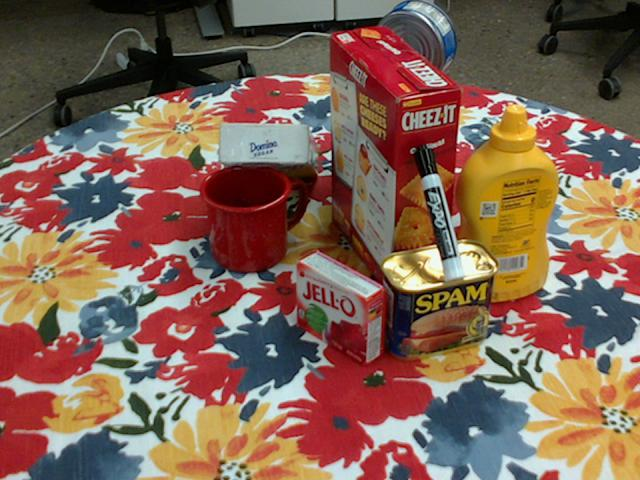cracker_box: (328, 28, 459, 298)
gelatin_box: (296, 249, 387, 364)
large_marker: (412, 144, 467, 280)
master_chef_can: (349, 60, 444, 212)
mug: (201, 163, 309, 272)
mustard_bottle: (449, 105, 558, 302)
potted_meat_can: (381, 239, 500, 360)
sugar_box: (220, 123, 318, 178)
tomato_soup_can: (467, 137, 541, 251)
tuna_fish_can: (371, 0, 455, 86)
